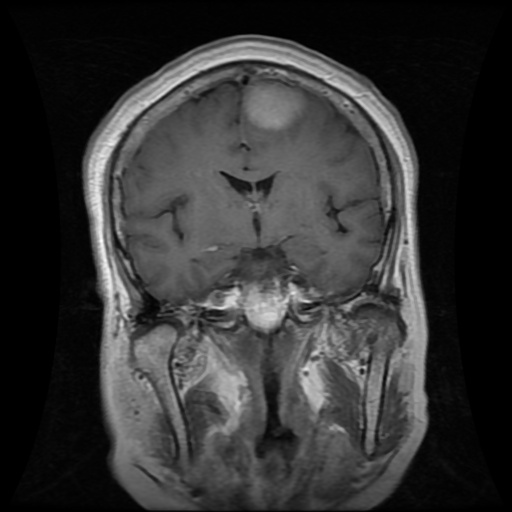meningioma: (244, 78, 307, 126)
